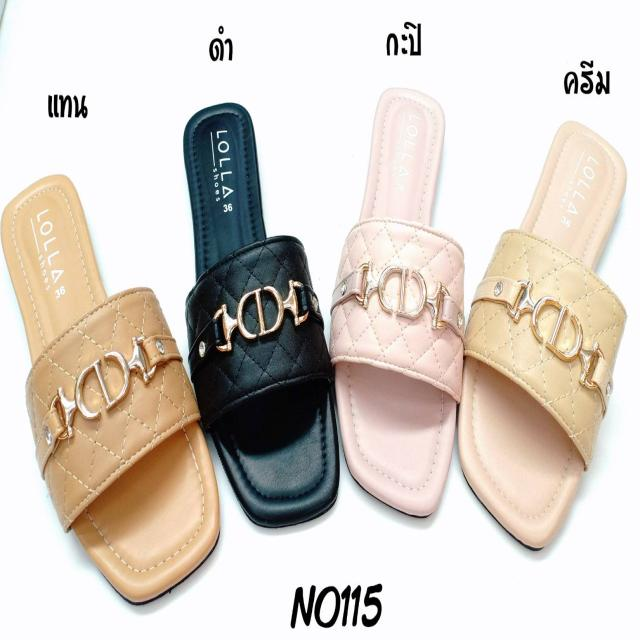black: (182, 104, 339, 514)
cream: (456, 116, 628, 544)
kapi: (332, 85, 459, 502)
tan: (0, 171, 220, 595)
